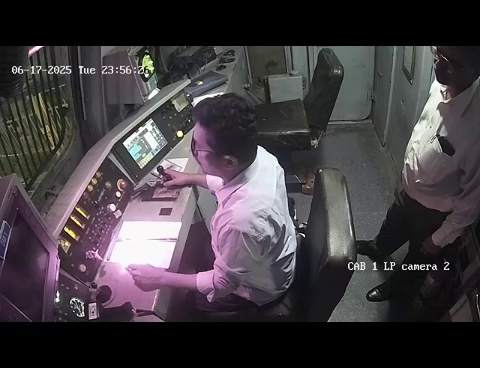horn_inactive: (87, 266, 123, 310)
